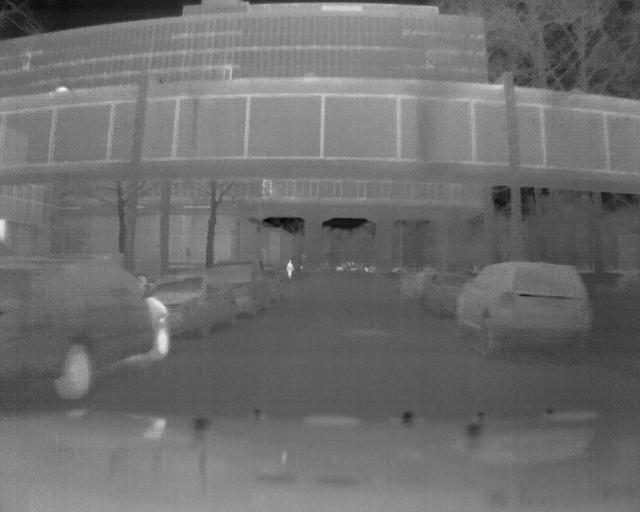car: (1, 259, 172, 403), (452, 259, 597, 353), (146, 269, 240, 337), (210, 260, 273, 316), (425, 271, 470, 312)
person: (286, 257, 294, 281)
